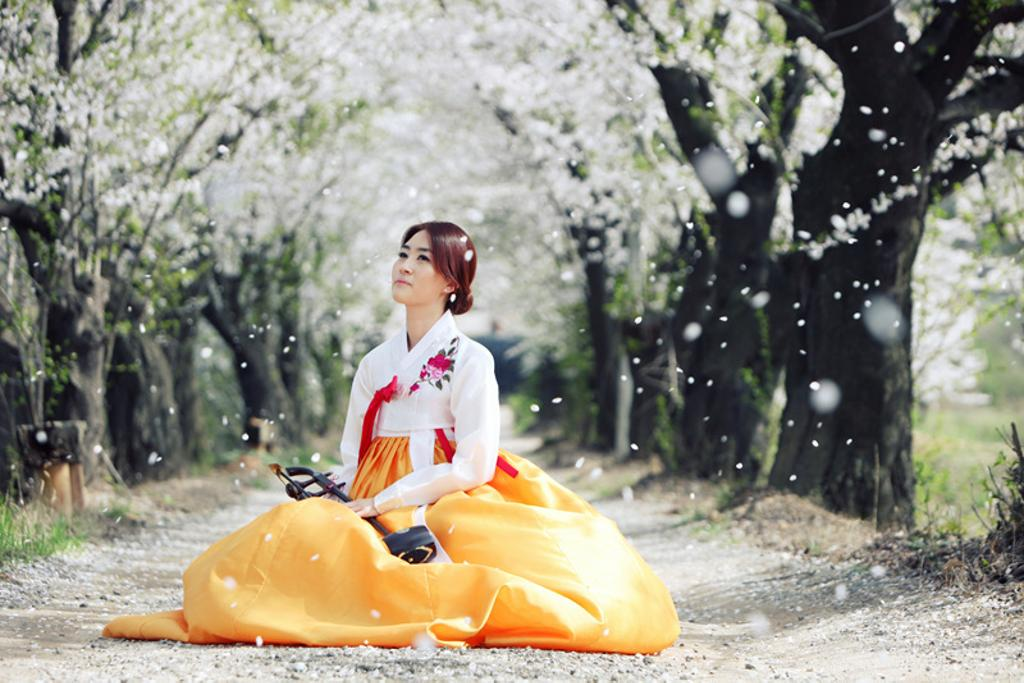face: (392, 232, 456, 308)
